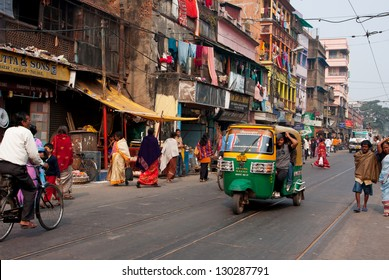threewheel: (215, 124, 305, 214)
